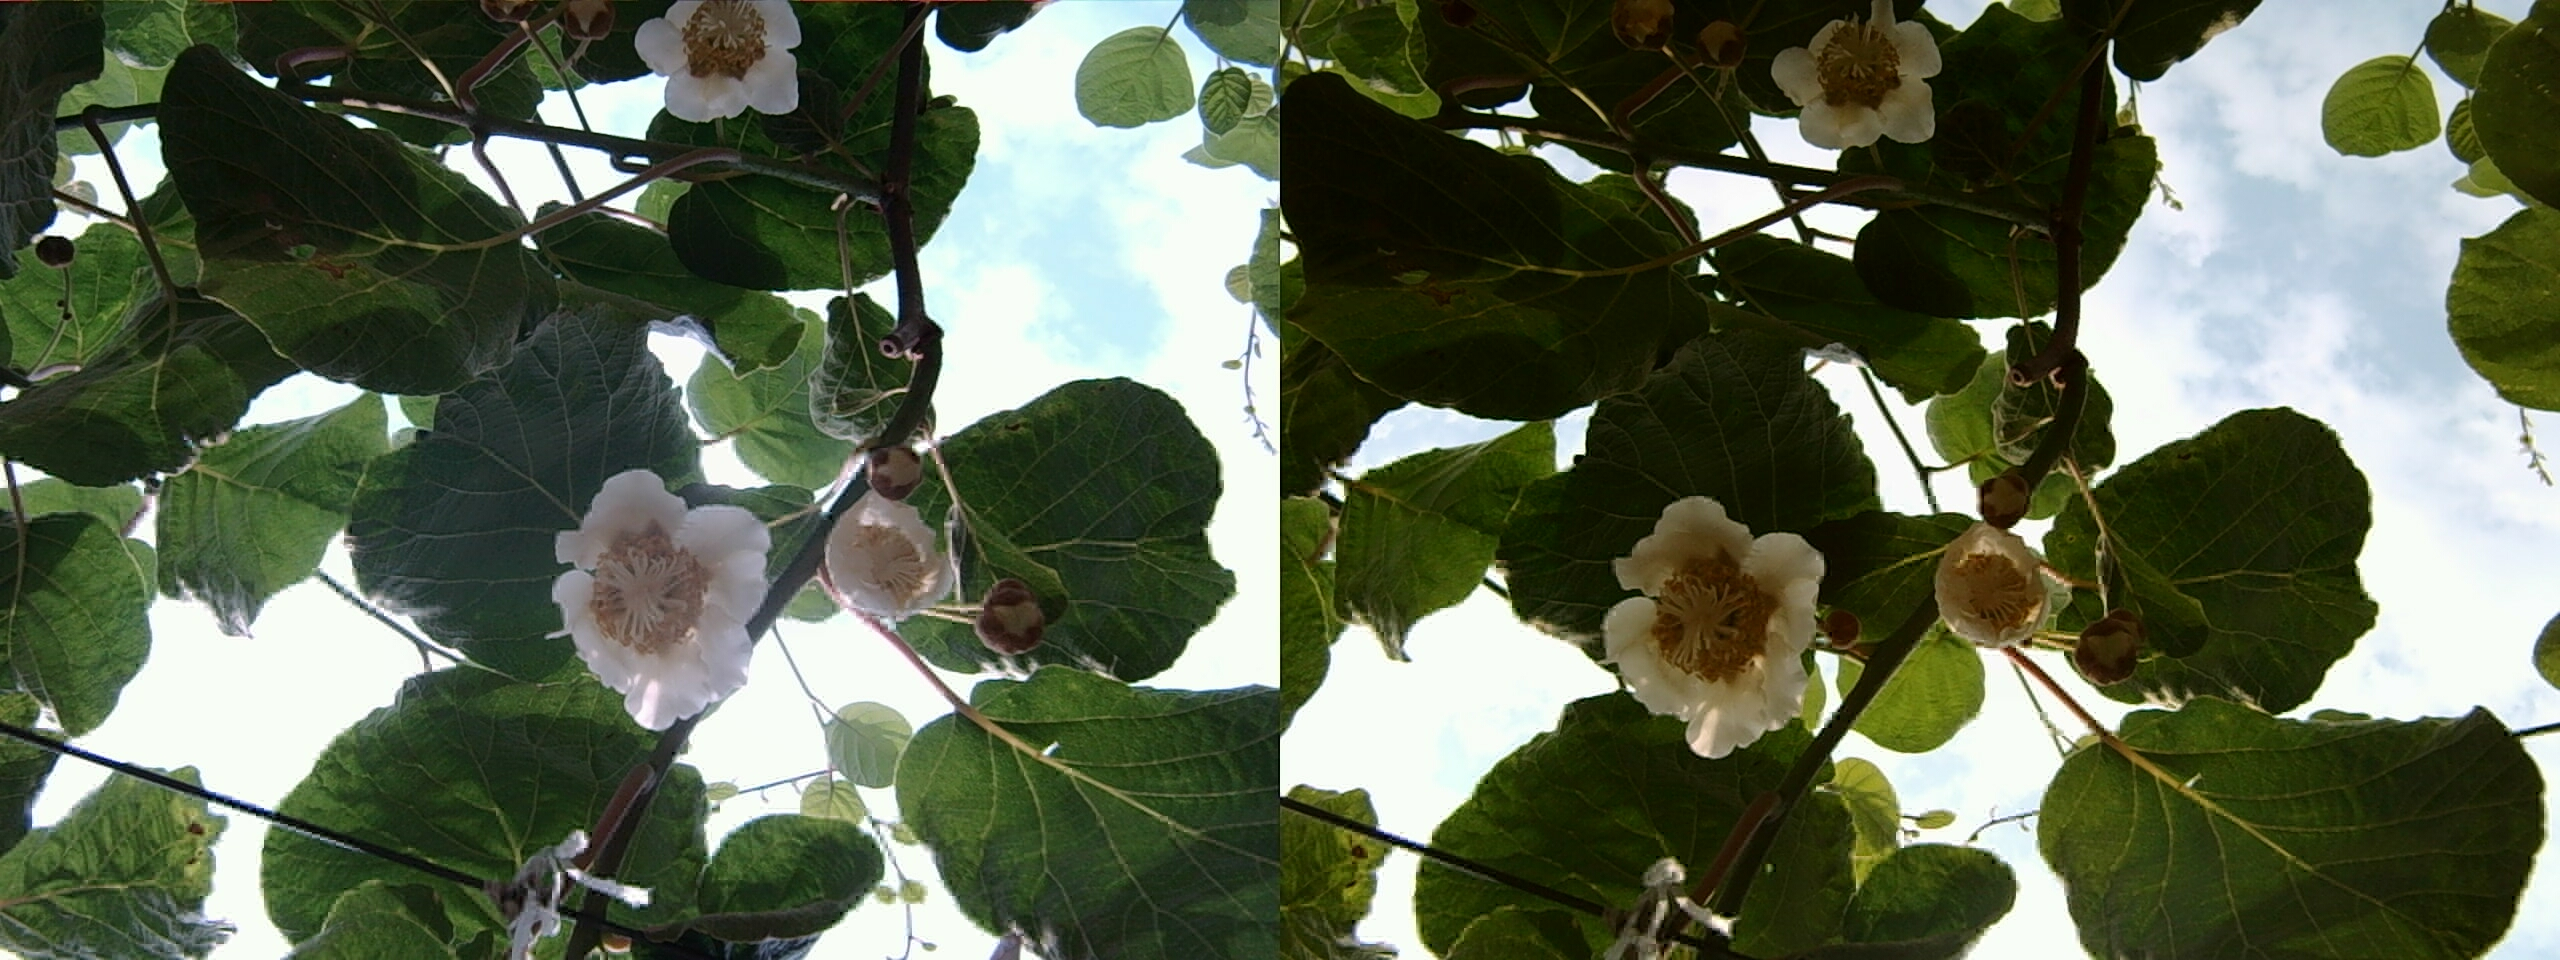flower: (536, 456, 774, 727), (1590, 483, 1829, 749), (1767, 7, 1941, 142), (635, 0, 805, 118), (821, 487, 950, 619)
